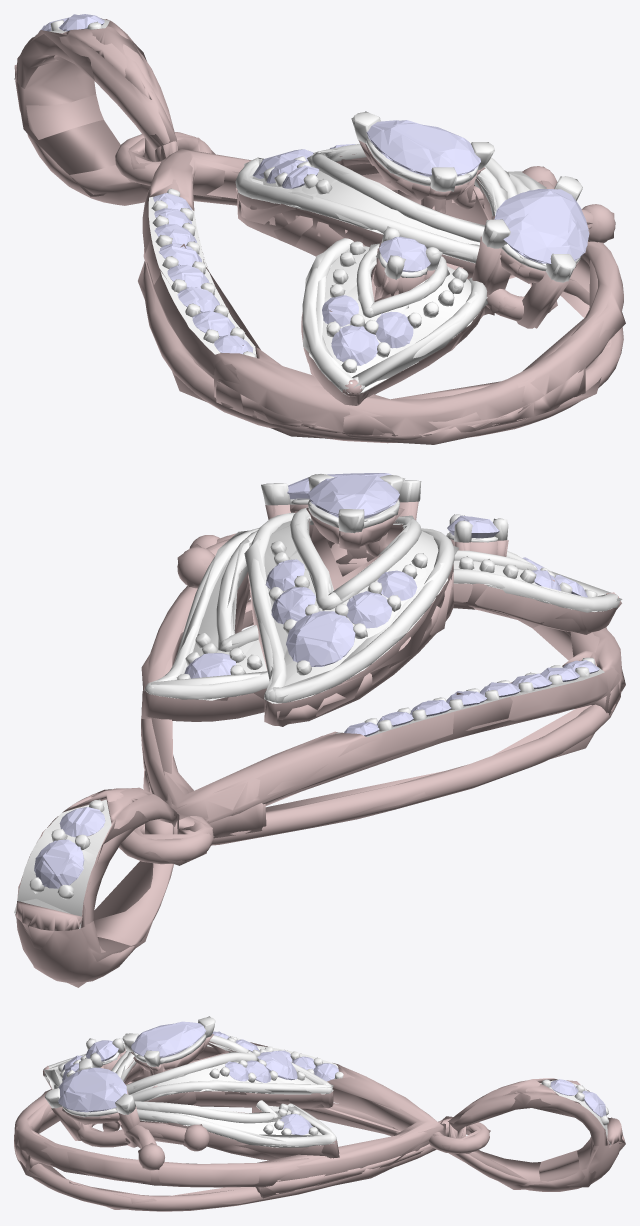
File: DCP-D000683136.glb
3 views of the same model, one above another, from view 1: azimuth 30°, elevation 25°; view 2: azimuth 150°, elevation 25°; view 3: azimuth 270°, elevation 25° (orthographic). The views are drawn at different scales.
Parts seen in each view (by area): view 1: highPolyMesh, lowPolyMesh; view 2: highPolyMesh, lowPolyMesh; view 3: highPolyMesh, lowPolyMesh.
Boxes of the visible parts, x1,y1,x2,y2 form: highPolyMesh: (15, 14, 623, 443); lowPolyMesh: (14, 14, 625, 444); highPolyMesh: (16, 473, 621, 983); lowPolyMesh: (14, 473, 625, 987); highPolyMesh: (14, 1017, 622, 1211); lowPolyMesh: (14, 1016, 625, 1209).
Bounding box in the file's own units: 0.0137 × 0.0084 × 0.0271.
